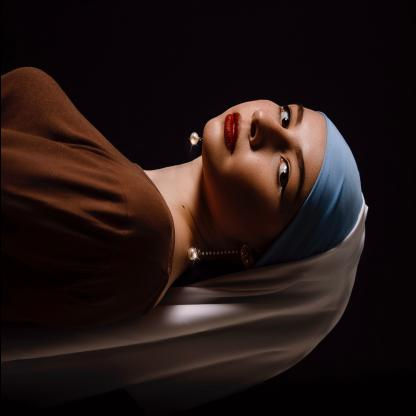Eye: (274, 154, 290, 194), (280, 106, 291, 130)
Mouth: (223, 112, 241, 156)
Nose: (249, 110, 280, 148)
